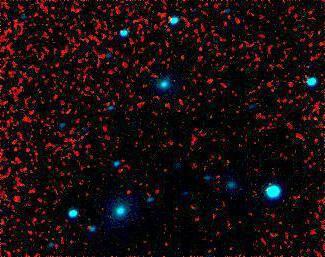star: (114, 178, 144, 208)
